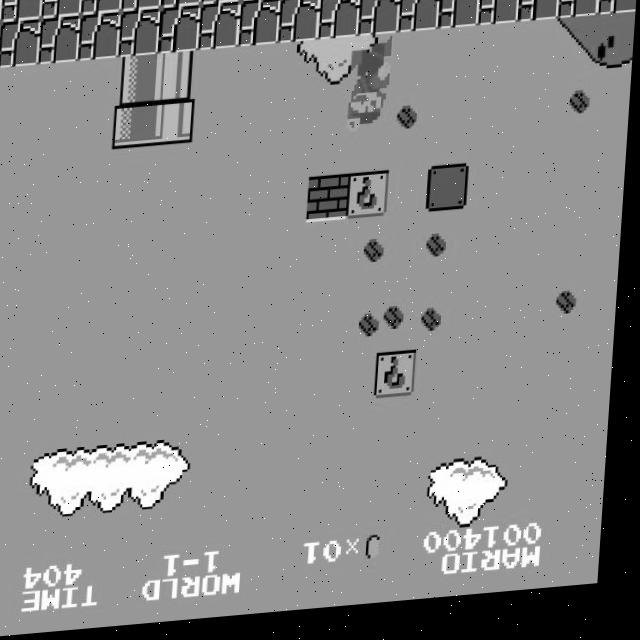0- big_mario: (349, 43, 397, 141)
1- brick_block: (309, 180, 352, 229)
13- mystery_block: (379, 358, 423, 406), (349, 177, 392, 226)
14- pipe: (156, 54, 199, 103), (116, 57, 159, 106)
15- pipe_head: (154, 100, 197, 149), (114, 103, 157, 151)
17- undestructible_block: (278, 0, 322, 49), (238, 3, 282, 52), (158, 8, 202, 57), (118, 11, 162, 60), (78, 14, 122, 63), (38, 17, 82, 66), (198, 6, 242, 54), (0, 19, 42, 68), (318, 0, 362, 46), (358, 0, 402, 43), (398, 0, 442, 40), (438, 0, 482, 38), (478, 0, 522, 35), (518, 0, 562, 32), (558, 0, 602, 29), (599, 0, 639, 26), (1, 0, 43, 23), (41, 0, 83, 20), (81, 0, 123, 17), (121, 0, 163, 14), (161, 0, 203, 12), (201, 0, 243, 9), (241, 0, 283, 6), (281, 0, 323, 3), (0, 23, 2, 69), (0, 1, 3, 23), (321, 0, 363, 0)
3- empty_block: (429, 172, 472, 221)
